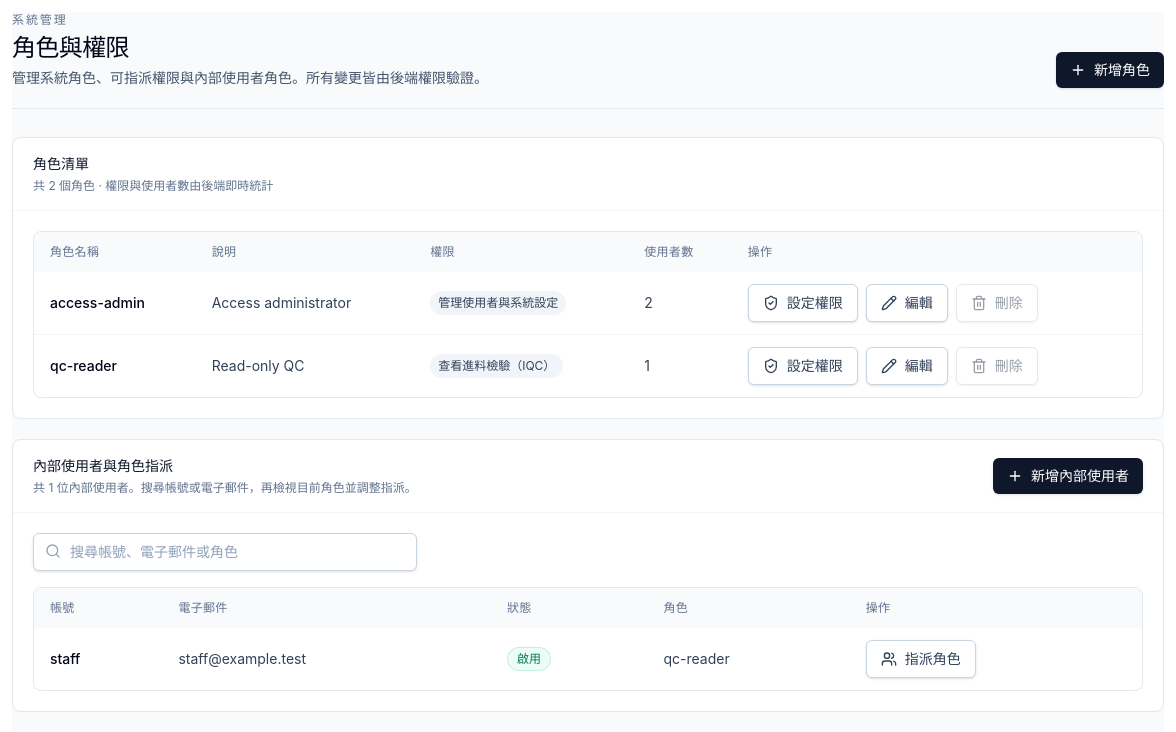
roles and permissions admin page › surfaces API errors without reporting success
Expected: the text "access-admin" is shown, [34,272,196,334]
Click the button "新增角色" at (1110, 70), box [1056,52,1164,88]
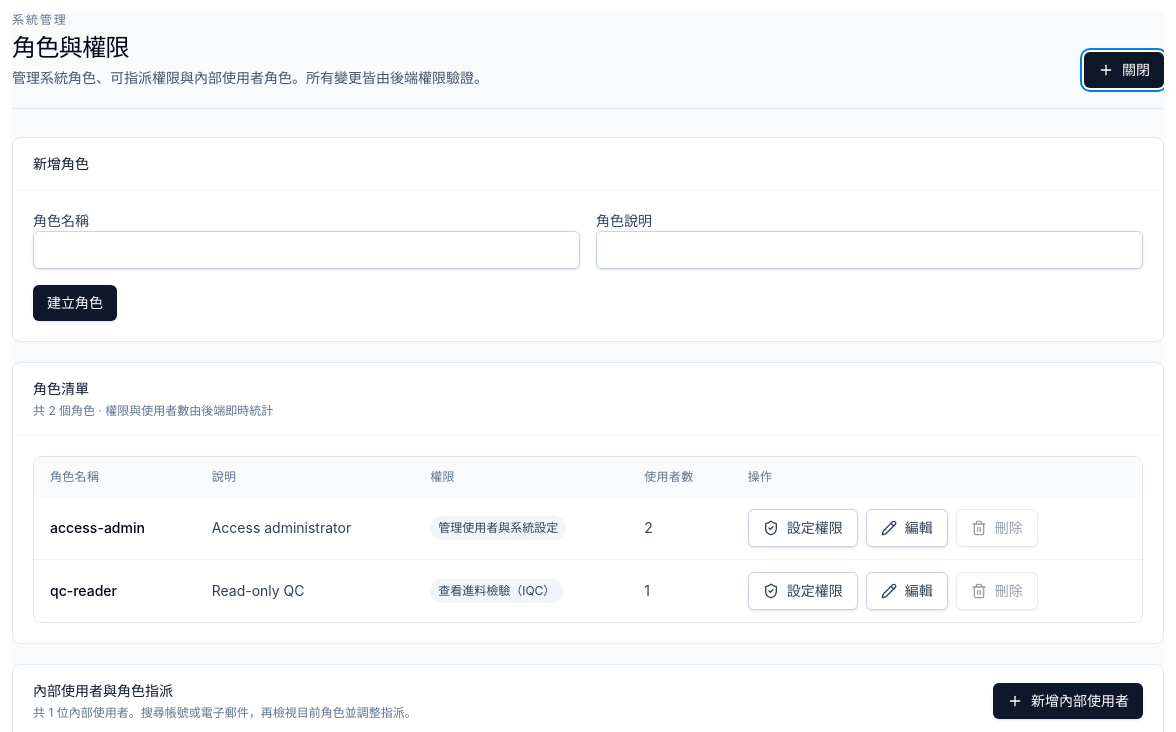
Type "blocked" into the field labelled "角色名稱" at (306, 250), box [33,231,580,269]
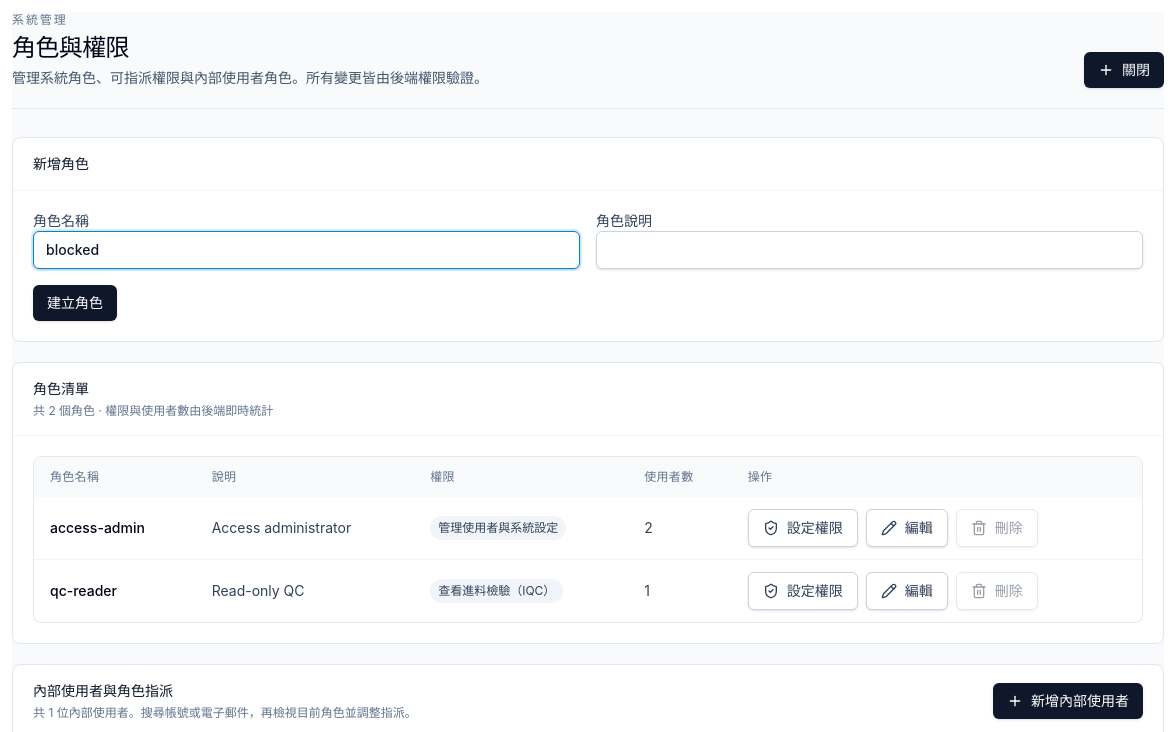
Click the button "建立角色" at (75, 303), box [33,285,117,321]
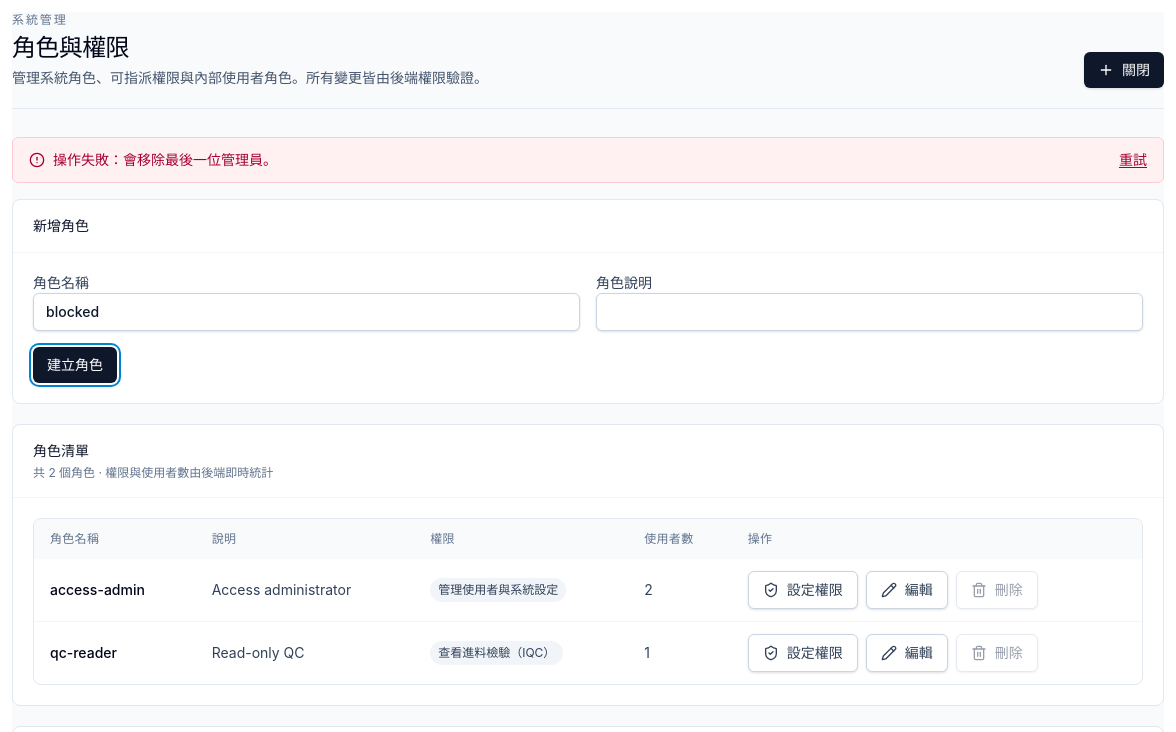
Expected: the message shows "操作失敗：會移除最後一位管理員。", [53,151,277,168]
